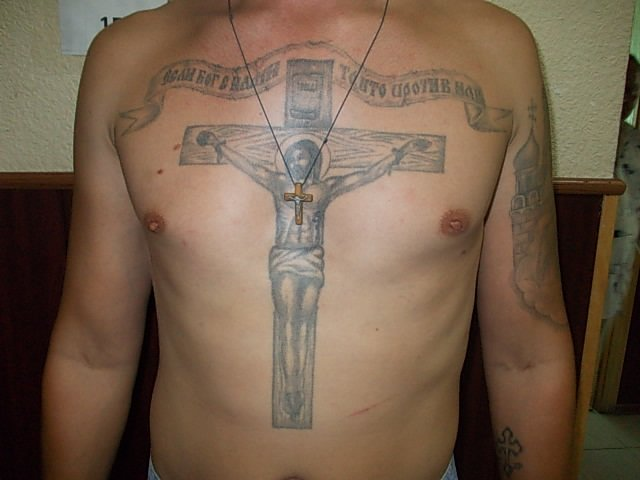tatu9_krest: (173, 47, 451, 442), (486, 423, 529, 480)
